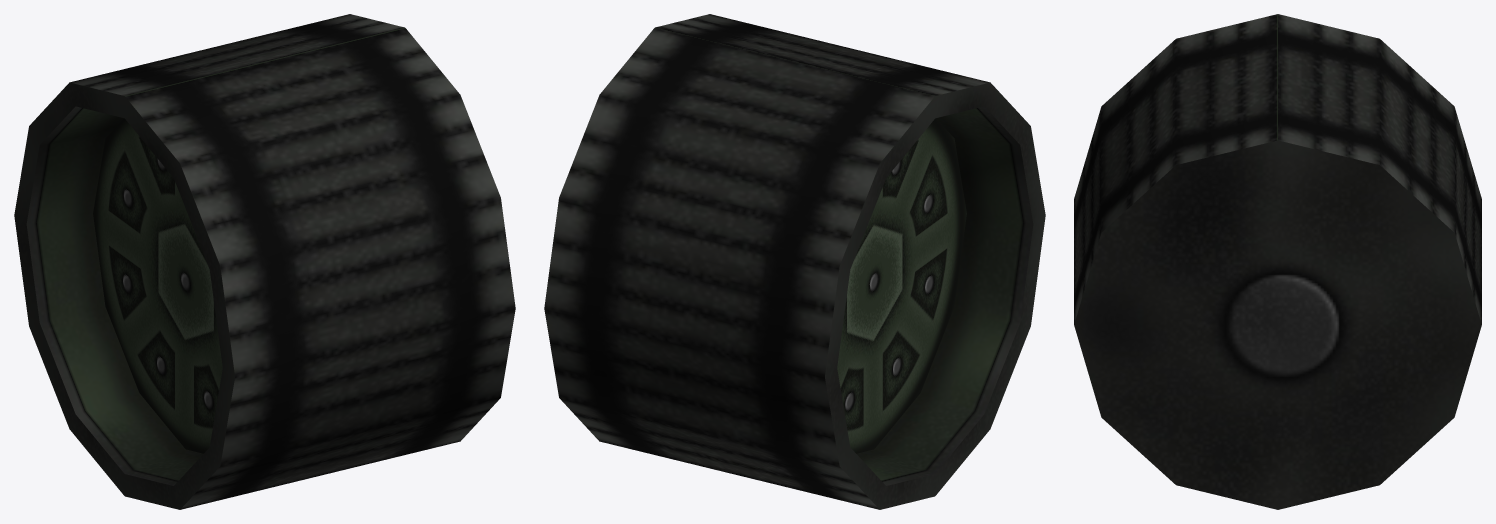
The model's file is wheel_r.obj.
3 views of the same model, side by side, from view 1: azimuth 30°, elevation 25°; view 2: azimuth 150°, elevation 25°; view 3: azimuth 270°, elevation 25° (orthographic). The views are drawn at different scales.
Visible parts, largest first — view 1: submesh0; view 2: submesh0; view 3: submesh0.
Boxes of the visible parts, x1,y1,x2,y2 form: submesh0: [14, 14, 515, 509]; submesh0: [544, 14, 1045, 509]; submesh0: [1074, 14, 1481, 509].
Bounding box in the file's own units: 0.39 × 0.5317 × 0.5317.
1 material, 1 textured.
